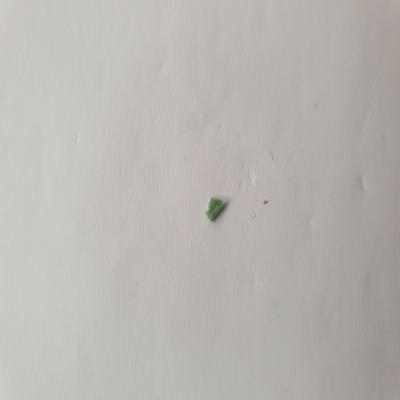plastic: (202, 192, 233, 222)
